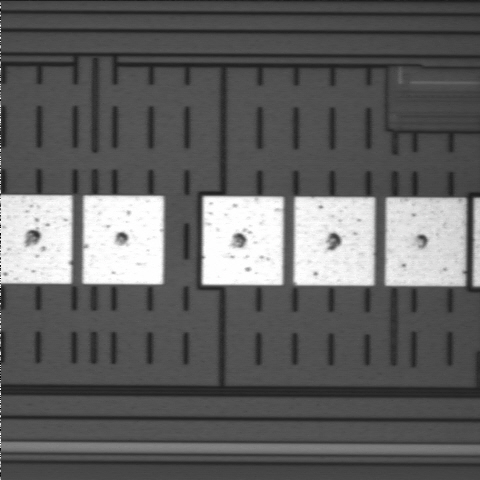pad: (202, 196, 284, 285), (293, 197, 375, 286), (82, 196, 164, 284), (385, 198, 466, 286)
